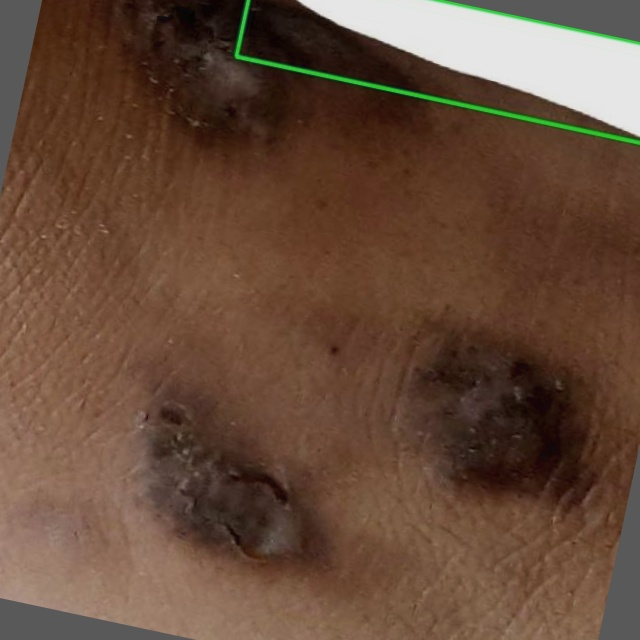Contact Dermatitis: (236, 0, 639, 142)
